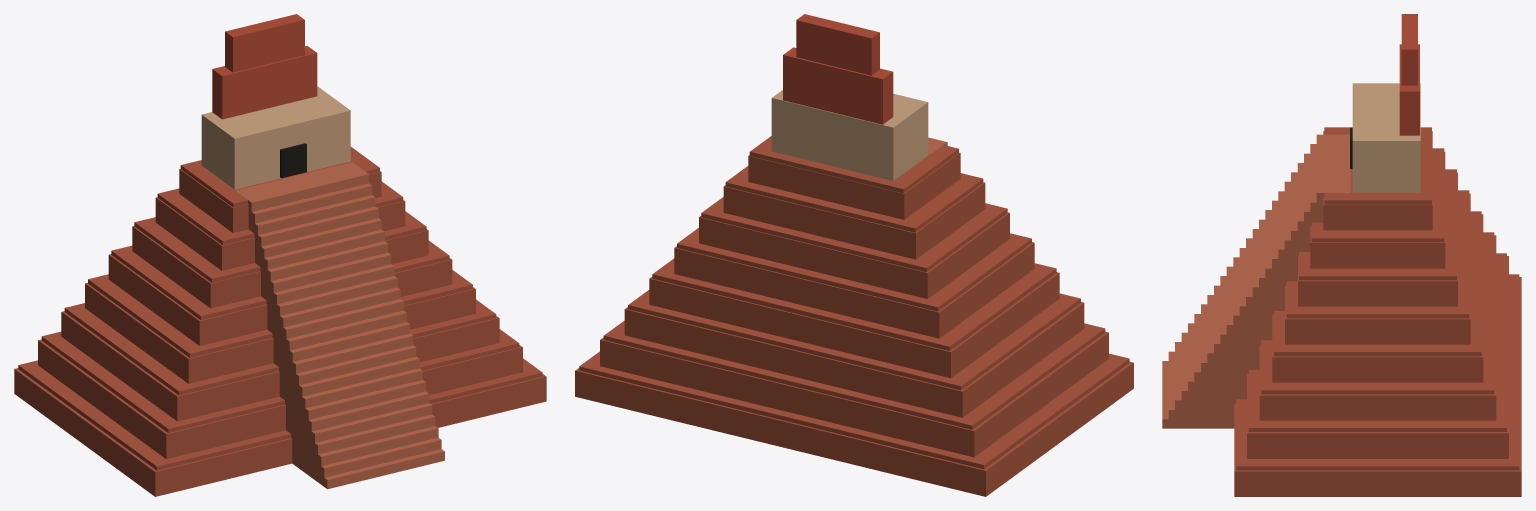
The model's file is meso-palenque-inscriptions.glb.
3 views of the same model, side by side, from view 1: azimuth 30°, elevation 25°; view 2: azimuth 150°, elevation 25°; view 3: azimuth 270°, elevation 25° (orthographic). The views are drawn at different scales.
Visible parts, largest first — view 1: meso-body, meso-stair, meso-shrine, meso-comb, meso-door; view 2: meso-body, meso-shrine, meso-comb; view 3: meso-body, meso-stair, meso-shrine, meso-comb.
Part boxes in pixels (x1,y1,x2,y2): meso-body: [14, 147, 546, 496]; meso-stair: [235, 162, 444, 489]; meso-shrine: [201, 86, 350, 189]; meso-comb: [212, 14, 317, 119]; meso-door: [280, 143, 306, 178]; meso-body: [575, 136, 1133, 496]; meso-shrine: [771, 90, 928, 180]; meso-comb: [783, 14, 893, 124]; meso-body: [1234, 127, 1521, 496]; meso-stair: [1162, 134, 1350, 428]; meso-shrine: [1352, 83, 1420, 192]; meso-comb: [1399, 14, 1419, 135].
Size of the model in its own units: 40.4 by 35.57 by 31.5.
